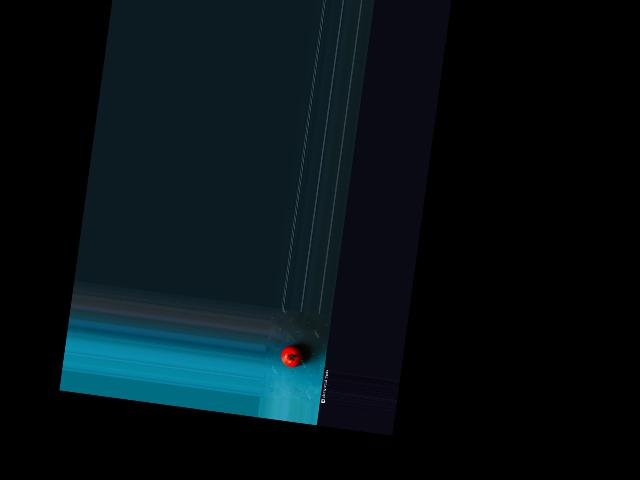tomato: (279, 344, 304, 368)
